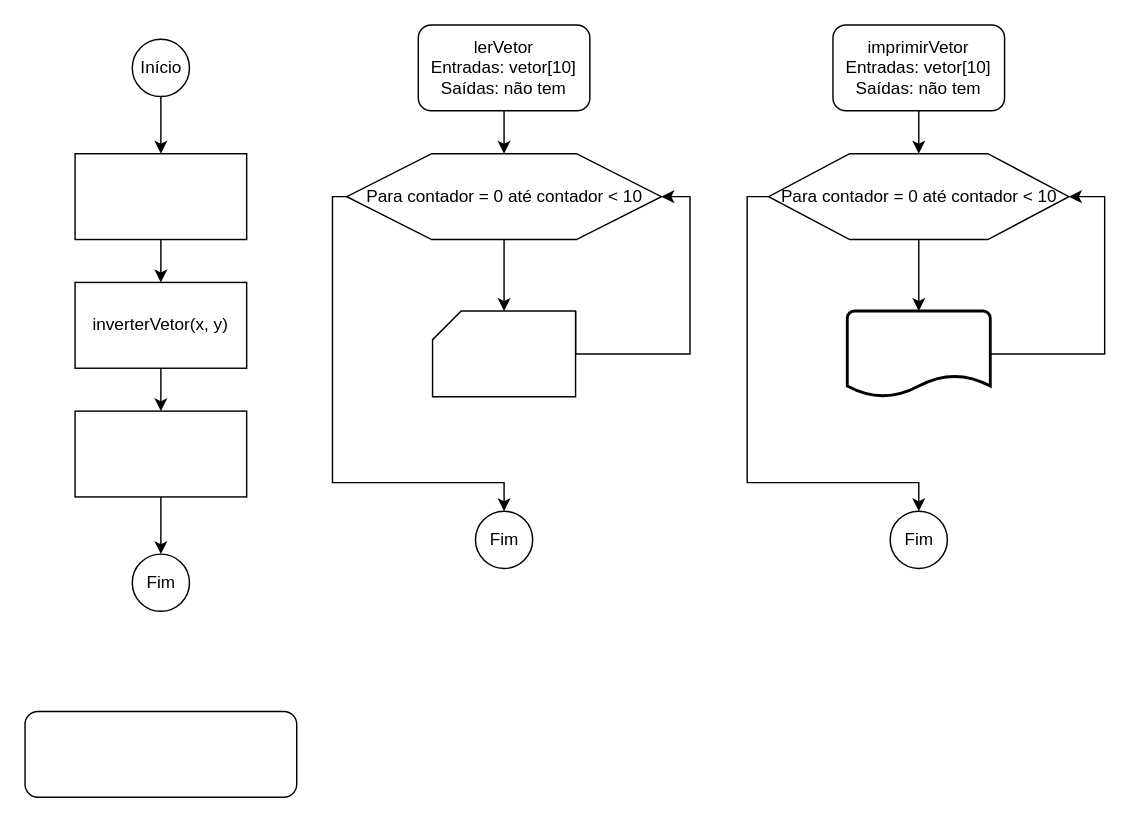
This 1141x822 diagram has some shape labels left out. The centre of each missing label's shape, as x and y in pixels:
"Escreva vetorA[contador]" belongs at pixel 918 353.
"imprimirVetor(y)" belongs at pixel 160 453.
"inverterVetor(x, y) Entradas: vetorA[10], vetorB[10] Saídas: não tem" belongs at pixel 160 753.
"lerVetor(x)" belongs at pixel 160 196.
"vetorA[contador]" belongs at pixel 503 353.
